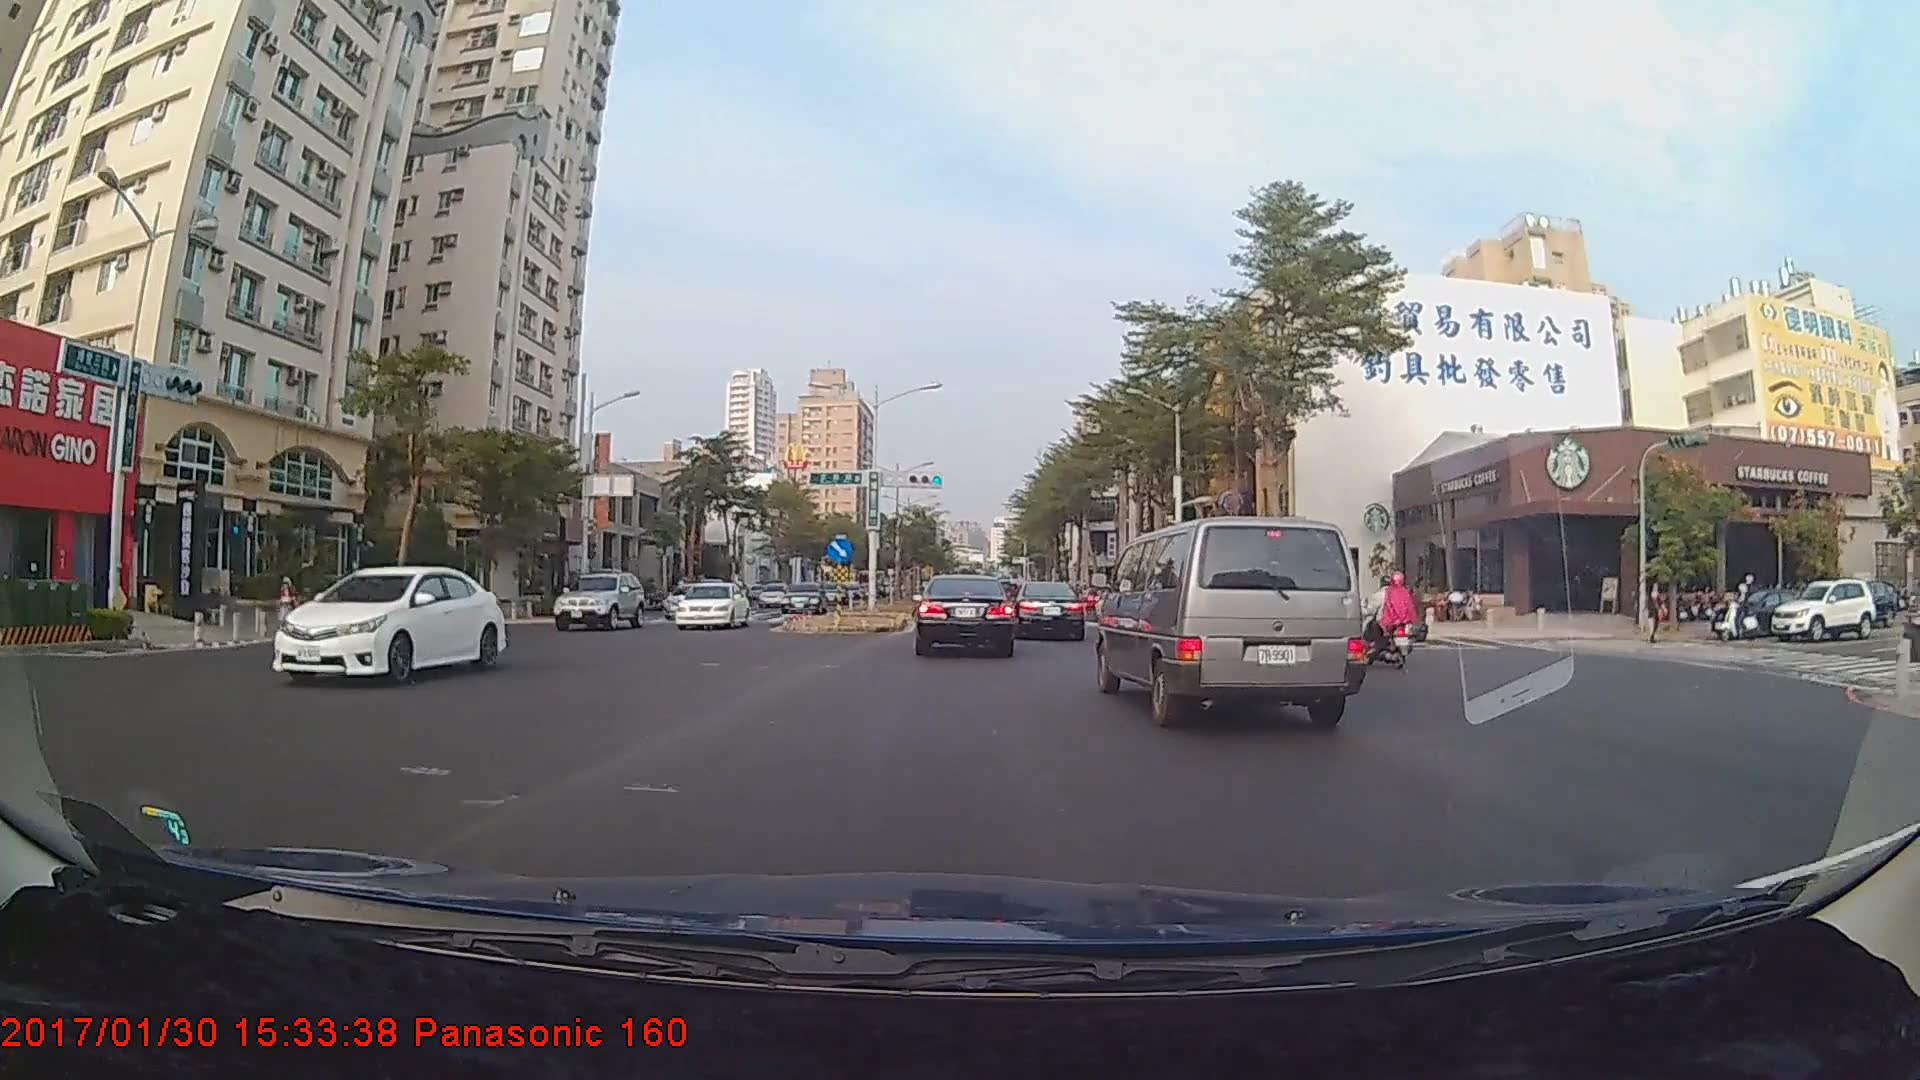pedestrian: (1644, 584, 1665, 649)
rider: (1714, 577, 1764, 644), (268, 569, 309, 647)
vehicle: (1098, 510, 1361, 728), (270, 563, 505, 683), (912, 572, 1016, 657), (1769, 579, 1888, 640), (552, 570, 644, 631), (1011, 580, 1086, 641), (672, 580, 749, 631), (775, 582, 829, 614)
